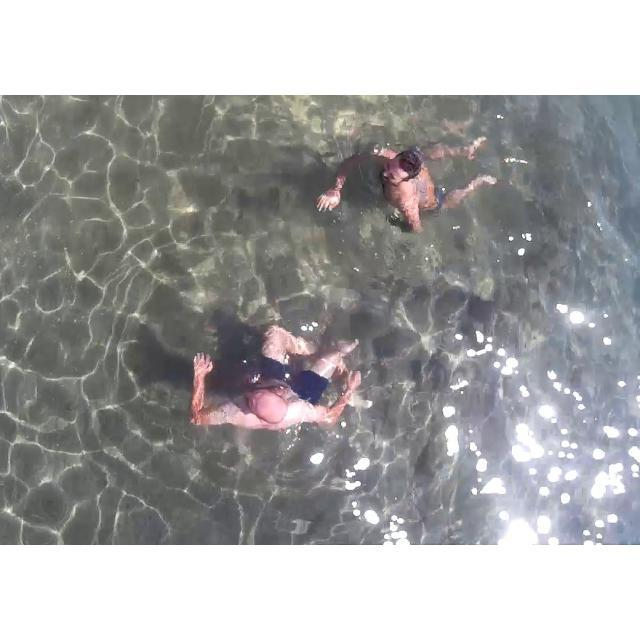human: (170, 311, 368, 450), (319, 114, 494, 244)
